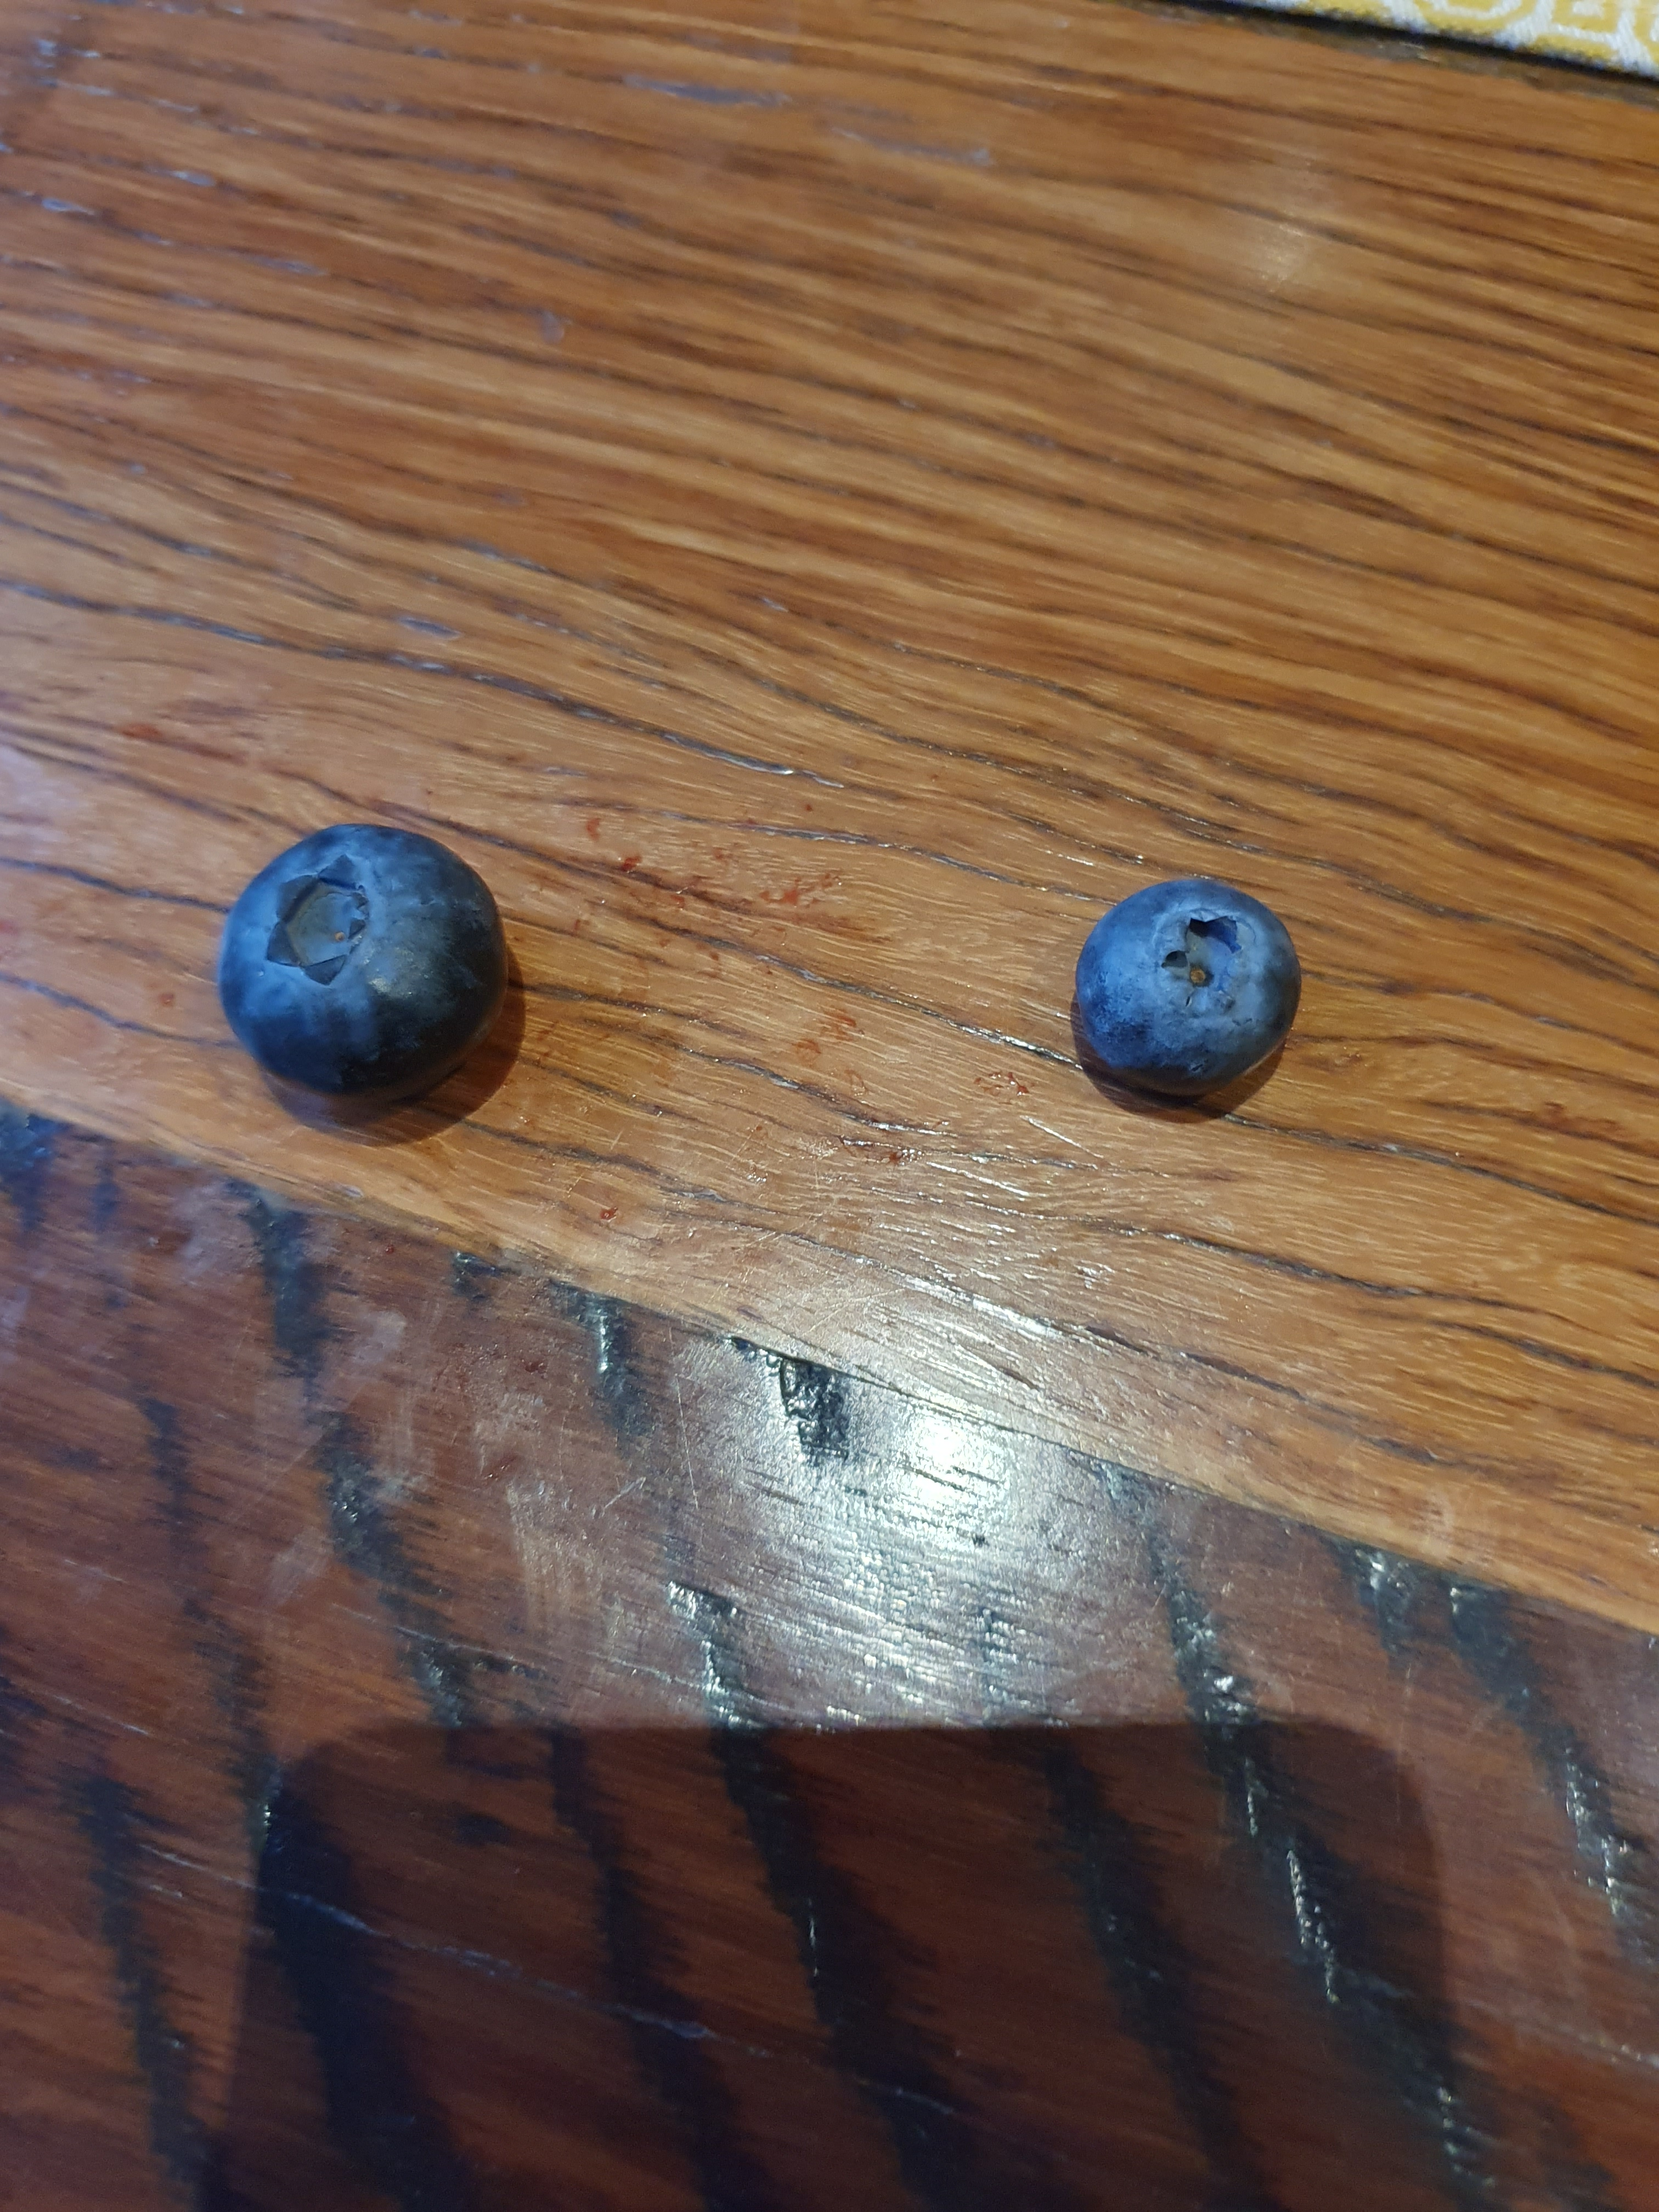blueberry: (176, 777, 521, 1097), (1039, 817, 1305, 1136)
